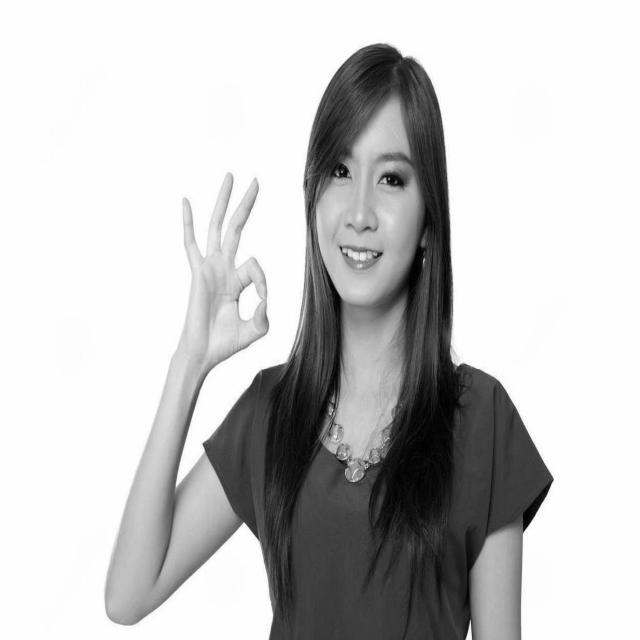perfect: (170, 162, 272, 385)
